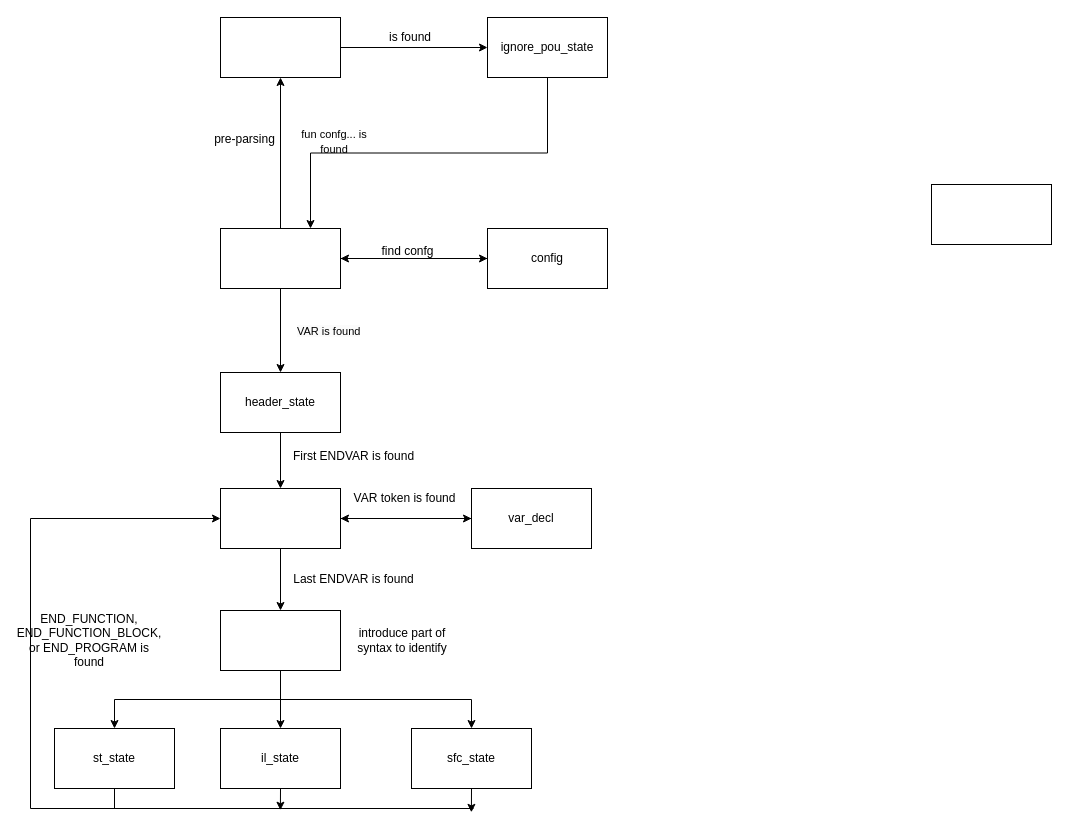
The diagram is 1069 pixels wide and 838 high, and some of its shapes have lost their labels. The shapes that lost their labels are listed below. From the top down, each one's centre as x and y in pixels, then its label:
At point 280,47: "get_pou_name_state".
At point 280,258: "INITIAL".
At point 280,518: "vardecl_list_state".
At point 280,640: "body".
